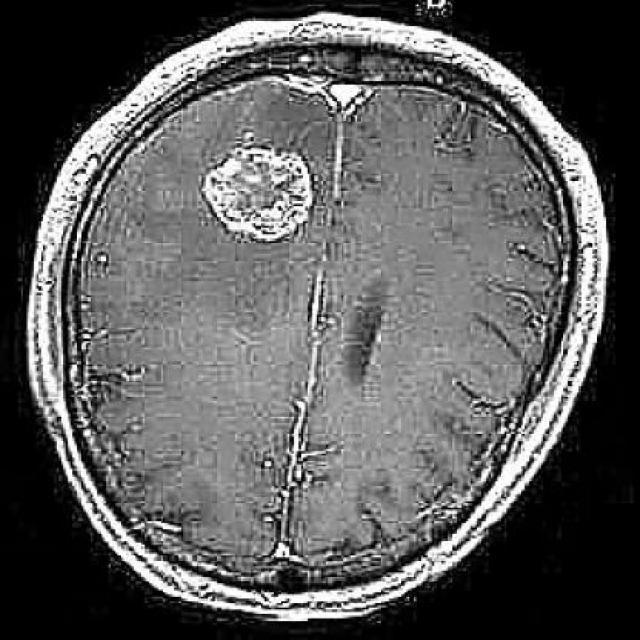Brain-Tumor: (192, 127, 327, 256)
